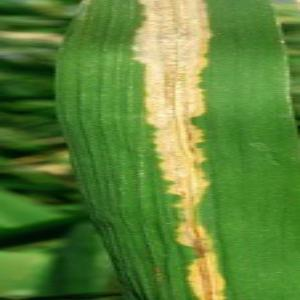2 BacterialBlight: (98, 2, 245, 299)
